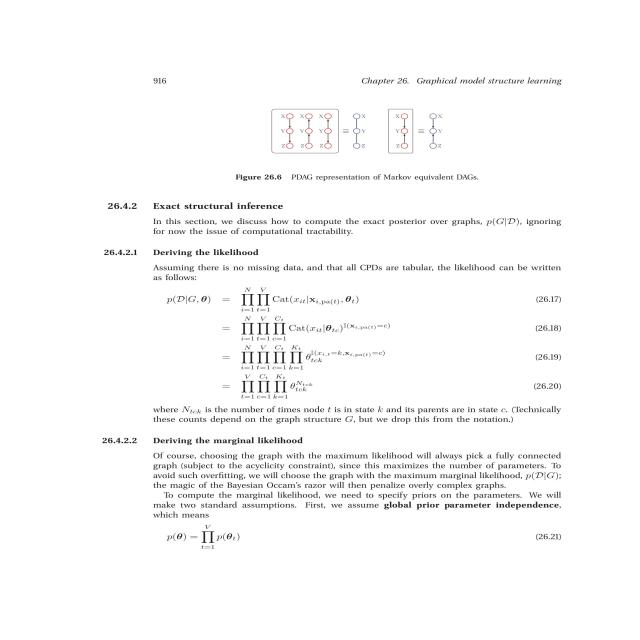diagram: (163, 92, 528, 194)
